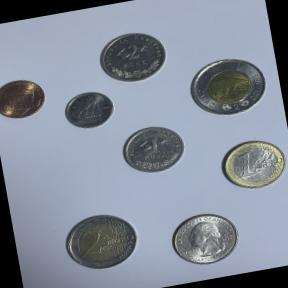coin: (181, 49, 273, 124), (56, 206, 146, 280), (163, 204, 248, 275), (91, 25, 173, 90), (213, 132, 288, 198), (57, 83, 120, 138), (0, 71, 52, 126)
